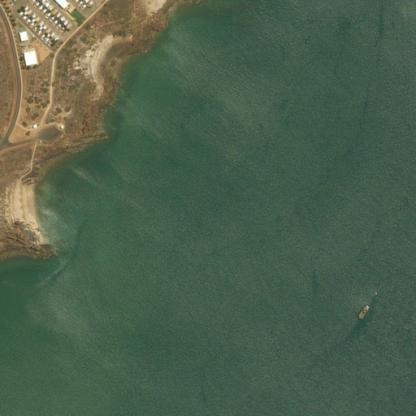ship: (357, 287, 368, 303)
